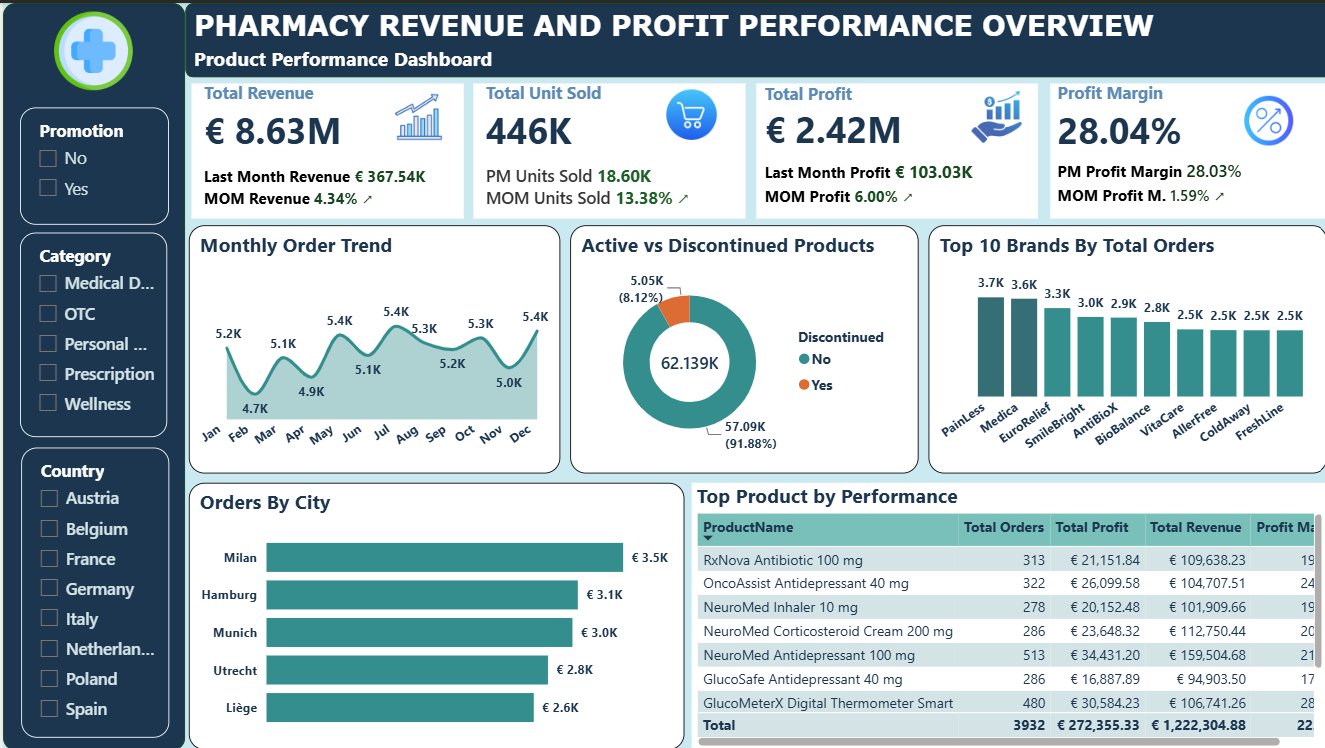

The page's visual inventory and layout, read from the dashboard file:
{"tool":"powerbi","page":{"name":"Product Dashboard","canvas":[1280,720],"ordinal":2},"visuals":[{"type":"shape","box":[175.2,0,1105.2,71.7],"z":0},{"type":"shape","box":[0,0,175.2,718.8],"z":1000},{"type":"cardVisual","fields":{"Data":["DAX.Total Revenue"]},"box":[175.8,72.8,272,140.1],"z":2000},{"type":"cardVisual","fields":{"Data":["DAX.Total Unit Sold"]},"box":[447.9,72.8,272,140.1],"z":3000},{"type":"cardVisual","fields":{"Data":["DAX.Total profit"]},"box":[719.9,72.8,281.6,140.1],"z":4000},{"type":"cardVisual","fields":{"Data":["DAX.Profit Margin"]},"box":[1001.8,72.7,278.9,140.1],"z":5000},{"type":"barChart","title":"Orders By City","fields":{"Category":["T_DimPharmacy.City"],"Y":["DAX.Total Sales"]},"box":[178.6,461.6,476.7,256.9],"z":6000},{"type":"lineChart","title":"Monthly Order Trend","fields":{"Category":["T_DimDate.Month Short Form"],"Y":["DAX.Total Orders"]},"box":[178.6,214.3,357.2,239],"z":7000},{"type":"textbox","box":[178.4,0,1070.4,61.8],"z":8000},{"type":"slicer","fields":{"Values":["T_DimPharmacy.Country"]},"box":[17.9,427.7,142.1,278.7],"z":9000},{"type":"slicer","fields":{"Values":["T_DimProduct.Category"]},"box":[16.5,221.2,141.5,196.4],"z":10000},{"type":"slicer","fields":{"Values":["T_FactSales.PromoFlag"]},"box":[16.6,100.7,143.5,113.1],"z":11000},{"type":"tableEx","title":"Top Product by Performance","fields":{"Values":["T_DimProduct.ProductName","DAX.Total Orders","DAX.Total Profit","DAX.Total Revenue","DAX.Profit Margin"]},"box":[662.2,461.6,612.7,258.3],"z":12000},{"type":"donutChart","title":"Active vs Discontinued Products","fields":{"Category":["T_DimProduct.IsDiscontinued","T_DimProduct.Brand"],"Y":["CountNonNull(T_FactSales.ProductID)"]},"box":[545.4,214.3,335.2,239],"z":13000},{"type":"clusteredColumnChart","title":"Top 10 Brands By Total Orders","fields":{"Category":["T_DimProduct.Brand"],"Y":["DAX.Total Orders"]},"box":[890.2,214.3,384.7,239],"z":14000},{"type":"image","box":[41.2,8.2,91.9,75.5],"z":15000},{"type":"textbox","box":[178.4,35.7,331.4,35.2],"z":16000},{"type":"image","box":[923.6,83.7,63.1,50.8],"z":17000},{"type":"image","box":[371.9,83.7,56.3,50.8],"z":18000},{"type":"image","box":[1185.7,87.8,63.1,50.8],"z":18001},{"type":"image","box":[621.7,81,81,53.5],"z":18002}]}

Visuals, with their boxes in screenshot pixels (x1, y1, x2, y2), scaled from the page's 1280x720 canvas onto the 1325x748 screenshot:
shape: (left=181, top=0, right=1324, bottom=74)
shape: (left=0, top=0, right=181, bottom=747)
cardVisual - DAX.Total Revenue: (left=182, top=76, right=464, bottom=221)
cardVisual - DAX.Total Unit Sold: (left=464, top=76, right=745, bottom=221)
cardVisual - DAX.Total profit: (left=745, top=76, right=1037, bottom=221)
cardVisual - DAX.Profit Margin: (left=1037, top=76, right=1324, bottom=221)
"Orders By City" barChart: (left=185, top=480, right=678, bottom=746)
"Monthly Order Trend" lineChart: (left=185, top=223, right=555, bottom=471)
textbox: (left=185, top=0, right=1293, bottom=64)
slicer - T_DimPharmacy.Country: (left=19, top=444, right=166, bottom=734)
slicer - T_DimProduct.Category: (left=17, top=230, right=164, bottom=434)
slicer - T_FactSales.PromoFlag: (left=17, top=105, right=166, bottom=222)
"Top Product by Performance" tableEx: (left=685, top=480, right=1320, bottom=747)
"Active vs Discontinued Products" donutChart: (left=565, top=223, right=912, bottom=471)
"Top 10 Brands By Total Orders" clusteredColumnChart: (left=921, top=223, right=1320, bottom=471)
image: (left=43, top=9, right=138, bottom=87)
textbox: (left=185, top=37, right=528, bottom=74)
image: (left=956, top=87, right=1021, bottom=140)
image: (left=385, top=87, right=443, bottom=140)
image: (left=1227, top=91, right=1293, bottom=144)
image: (left=644, top=84, right=727, bottom=140)
